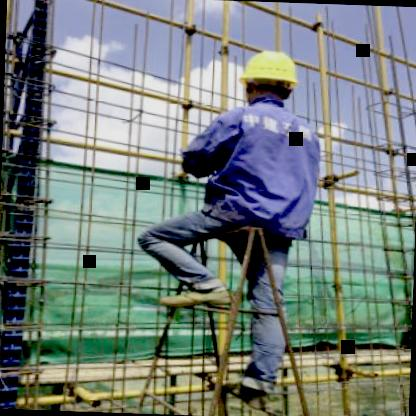helmet: (233, 45, 306, 108)
